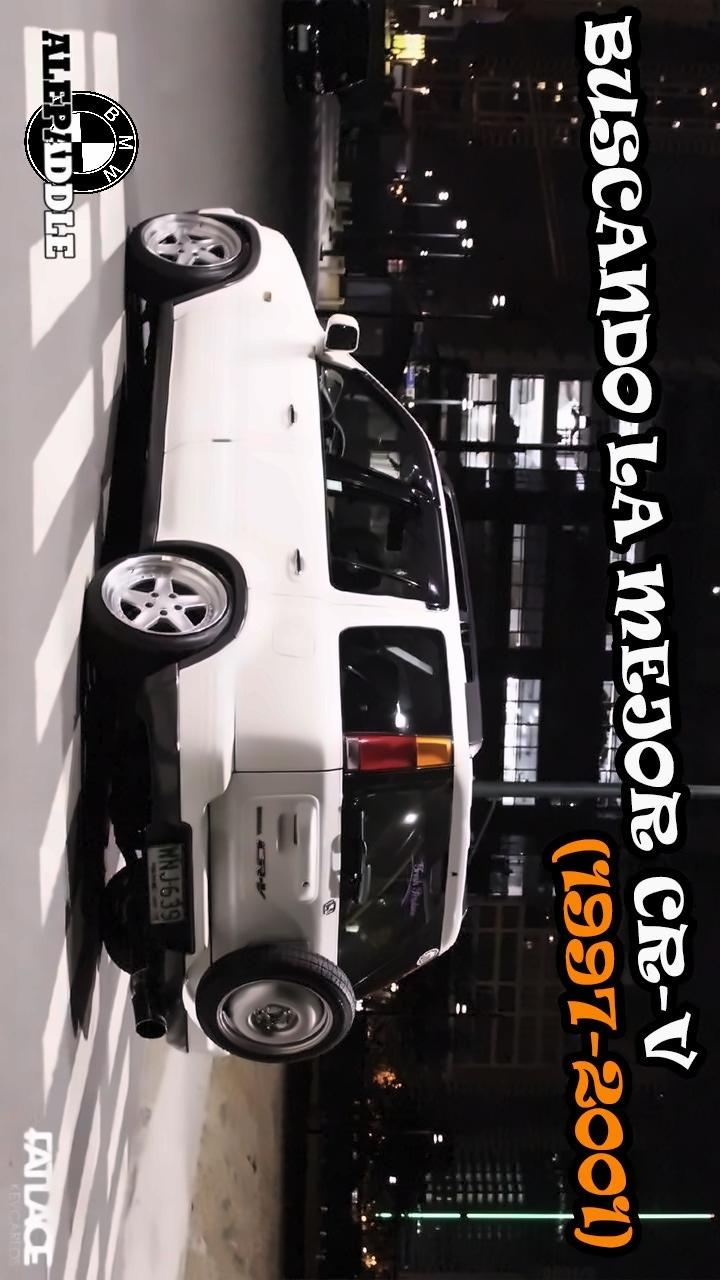Car boot: (194, 748, 466, 995)
Fender - -F-L-: (150, 223, 334, 326)
Fender - -R-L-: (142, 586, 335, 690)
Passenger-s door - -F-L-: (158, 313, 434, 455)
Passenger-s door - -R-L-: (154, 450, 464, 613)
Rear bumper: (134, 720, 352, 1060)
Rear light - -L-: (330, 726, 463, 786)
Side bumper - -L-: (124, 284, 192, 570)
Side mirror - -L-: (304, 302, 379, 372)
